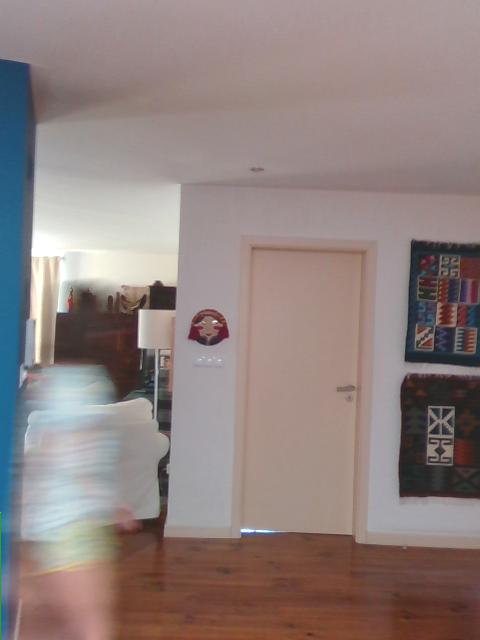closed_door: (231, 241, 374, 546)
